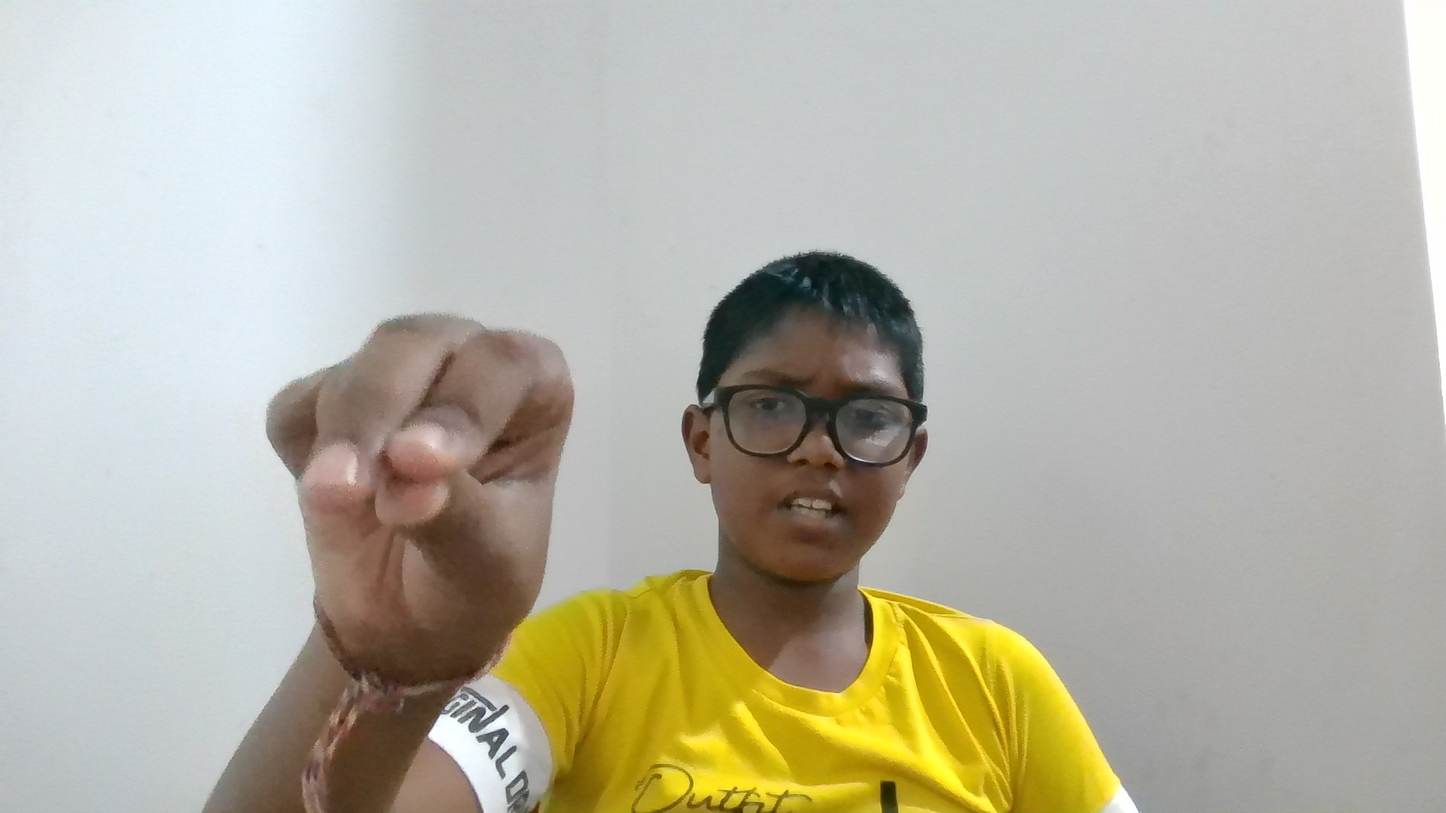No: (224, 274, 573, 740)
